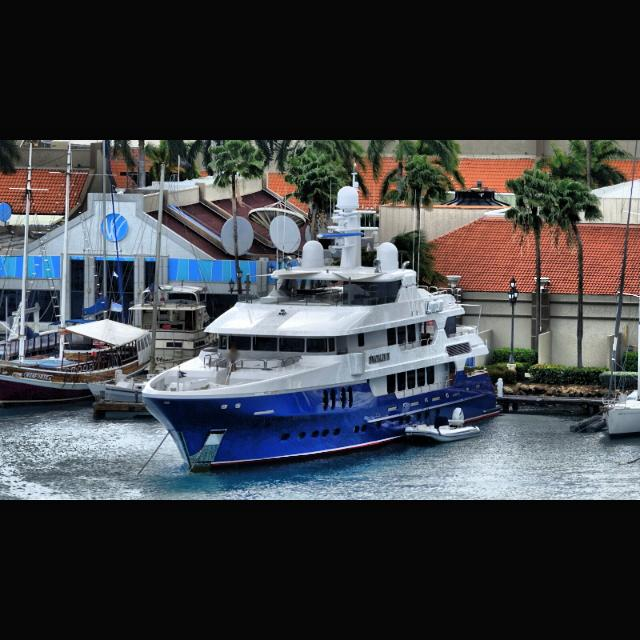yacht: (141, 170, 504, 476)
